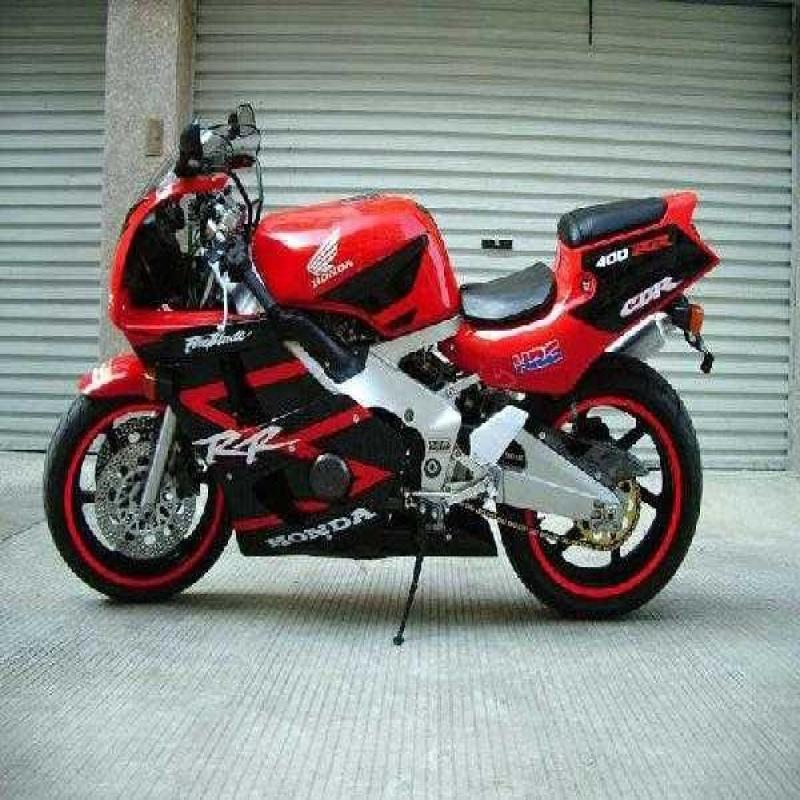bike: (58, 80, 736, 628)
